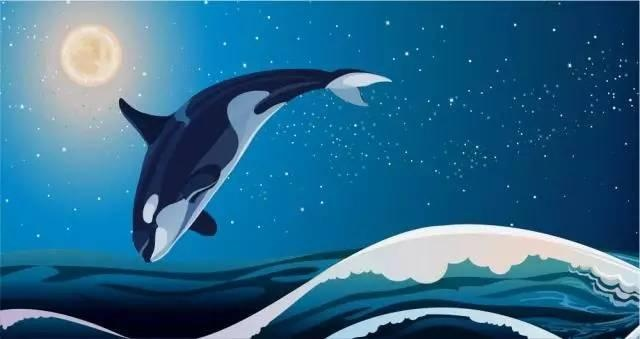fish: (117, 64, 397, 267)
